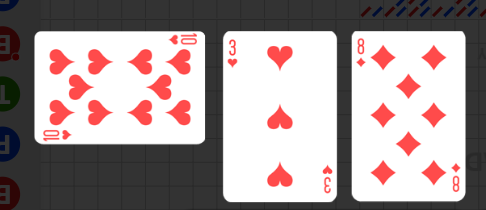10H: (166, 32, 199, 47), (42, 127, 74, 141)
8D: (355, 37, 367, 69)
